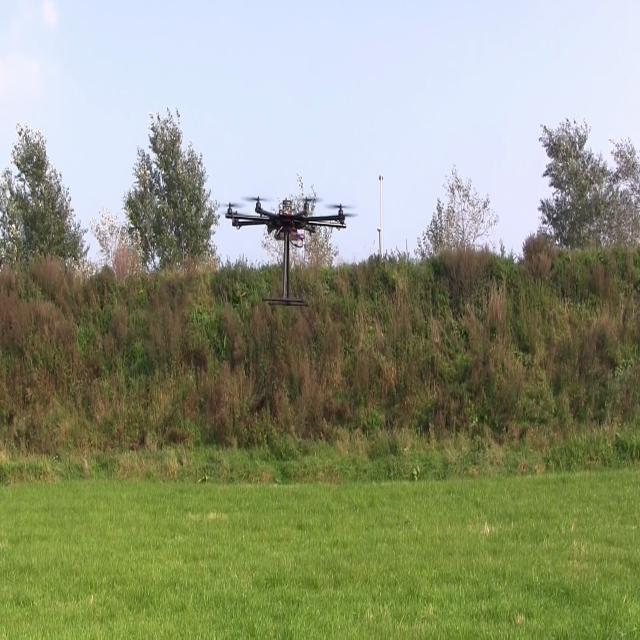drone: (221, 166, 360, 338)
